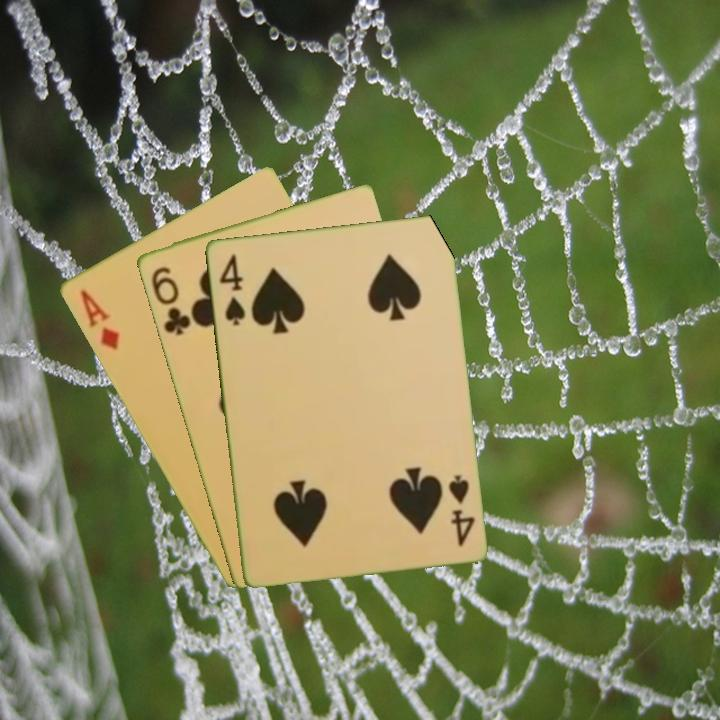4s: (444, 470, 478, 549), (215, 250, 248, 328)
6c: (147, 262, 193, 338)
Ad: (76, 286, 122, 353)
